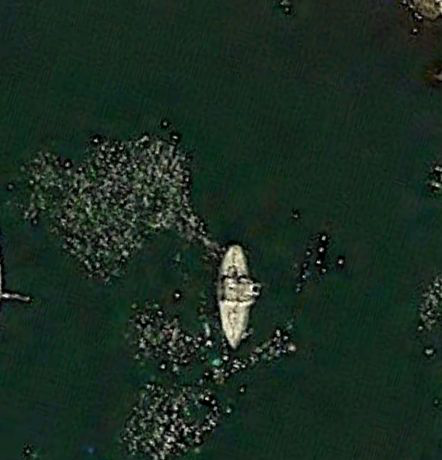boat: (213, 243, 261, 352)
